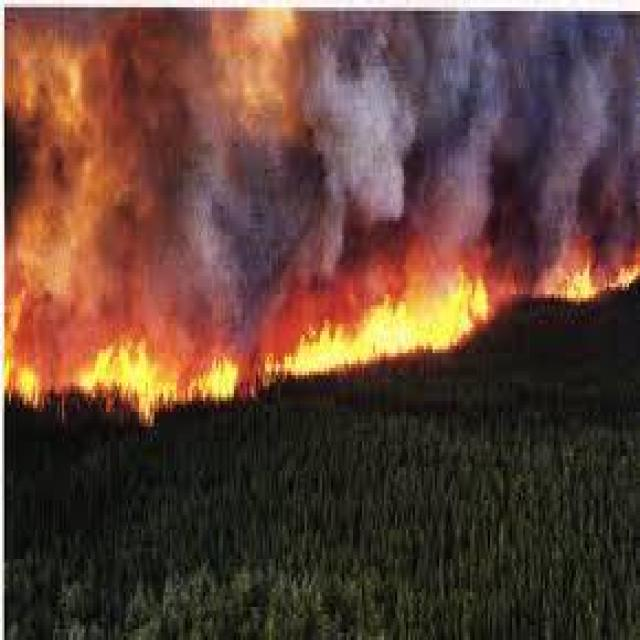fire: (29, 280, 523, 412), (536, 245, 640, 347)
smoke: (147, 0, 635, 263)
